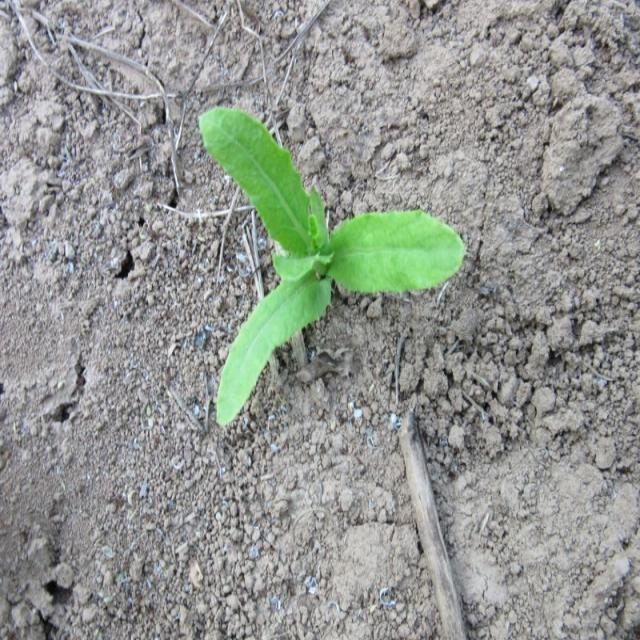cs: (200, 106, 467, 427)
